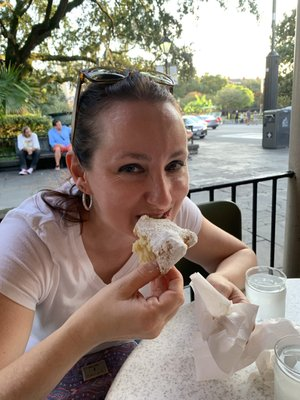pizza: (245, 265, 288, 324), (272, 336, 300, 400)
